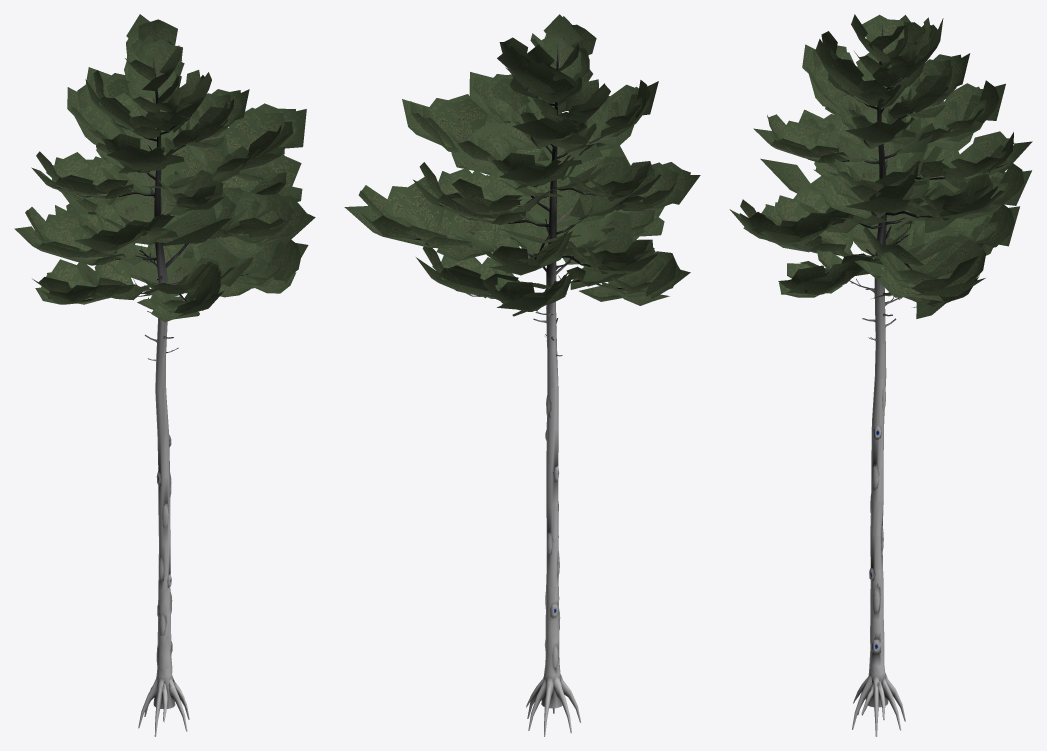
The model's file is PW_Tree_Pine_01_Long.fbx.
3 renders of one model, left to right at view 1: azimuth 30°, elevation 25°; view 2: azimuth 150°, elevation 25°; view 3: azimuth 270°, elevation 25°, orthographic. The views are drawn at different scales.
Visible parts, largest first — view 1: PW_Tree_LongPine_01_LOD0; view 2: PW_Tree_LongPine_01_LOD0; view 3: PW_Tree_LongPine_01_LOD0.
Boxes of the visible parts, left/top/right/bottom form: PW_Tree_LongPine_01_LOD0: left=14, top=14, right=315, bottom=736; PW_Tree_LongPine_01_LOD0: left=344, top=14, right=700, bottom=736; PW_Tree_LongPine_01_LOD0: left=729, top=14, right=1032, bottom=736.
Size of what is drawn, in the model's own units: 747 by 1694 by 655.
